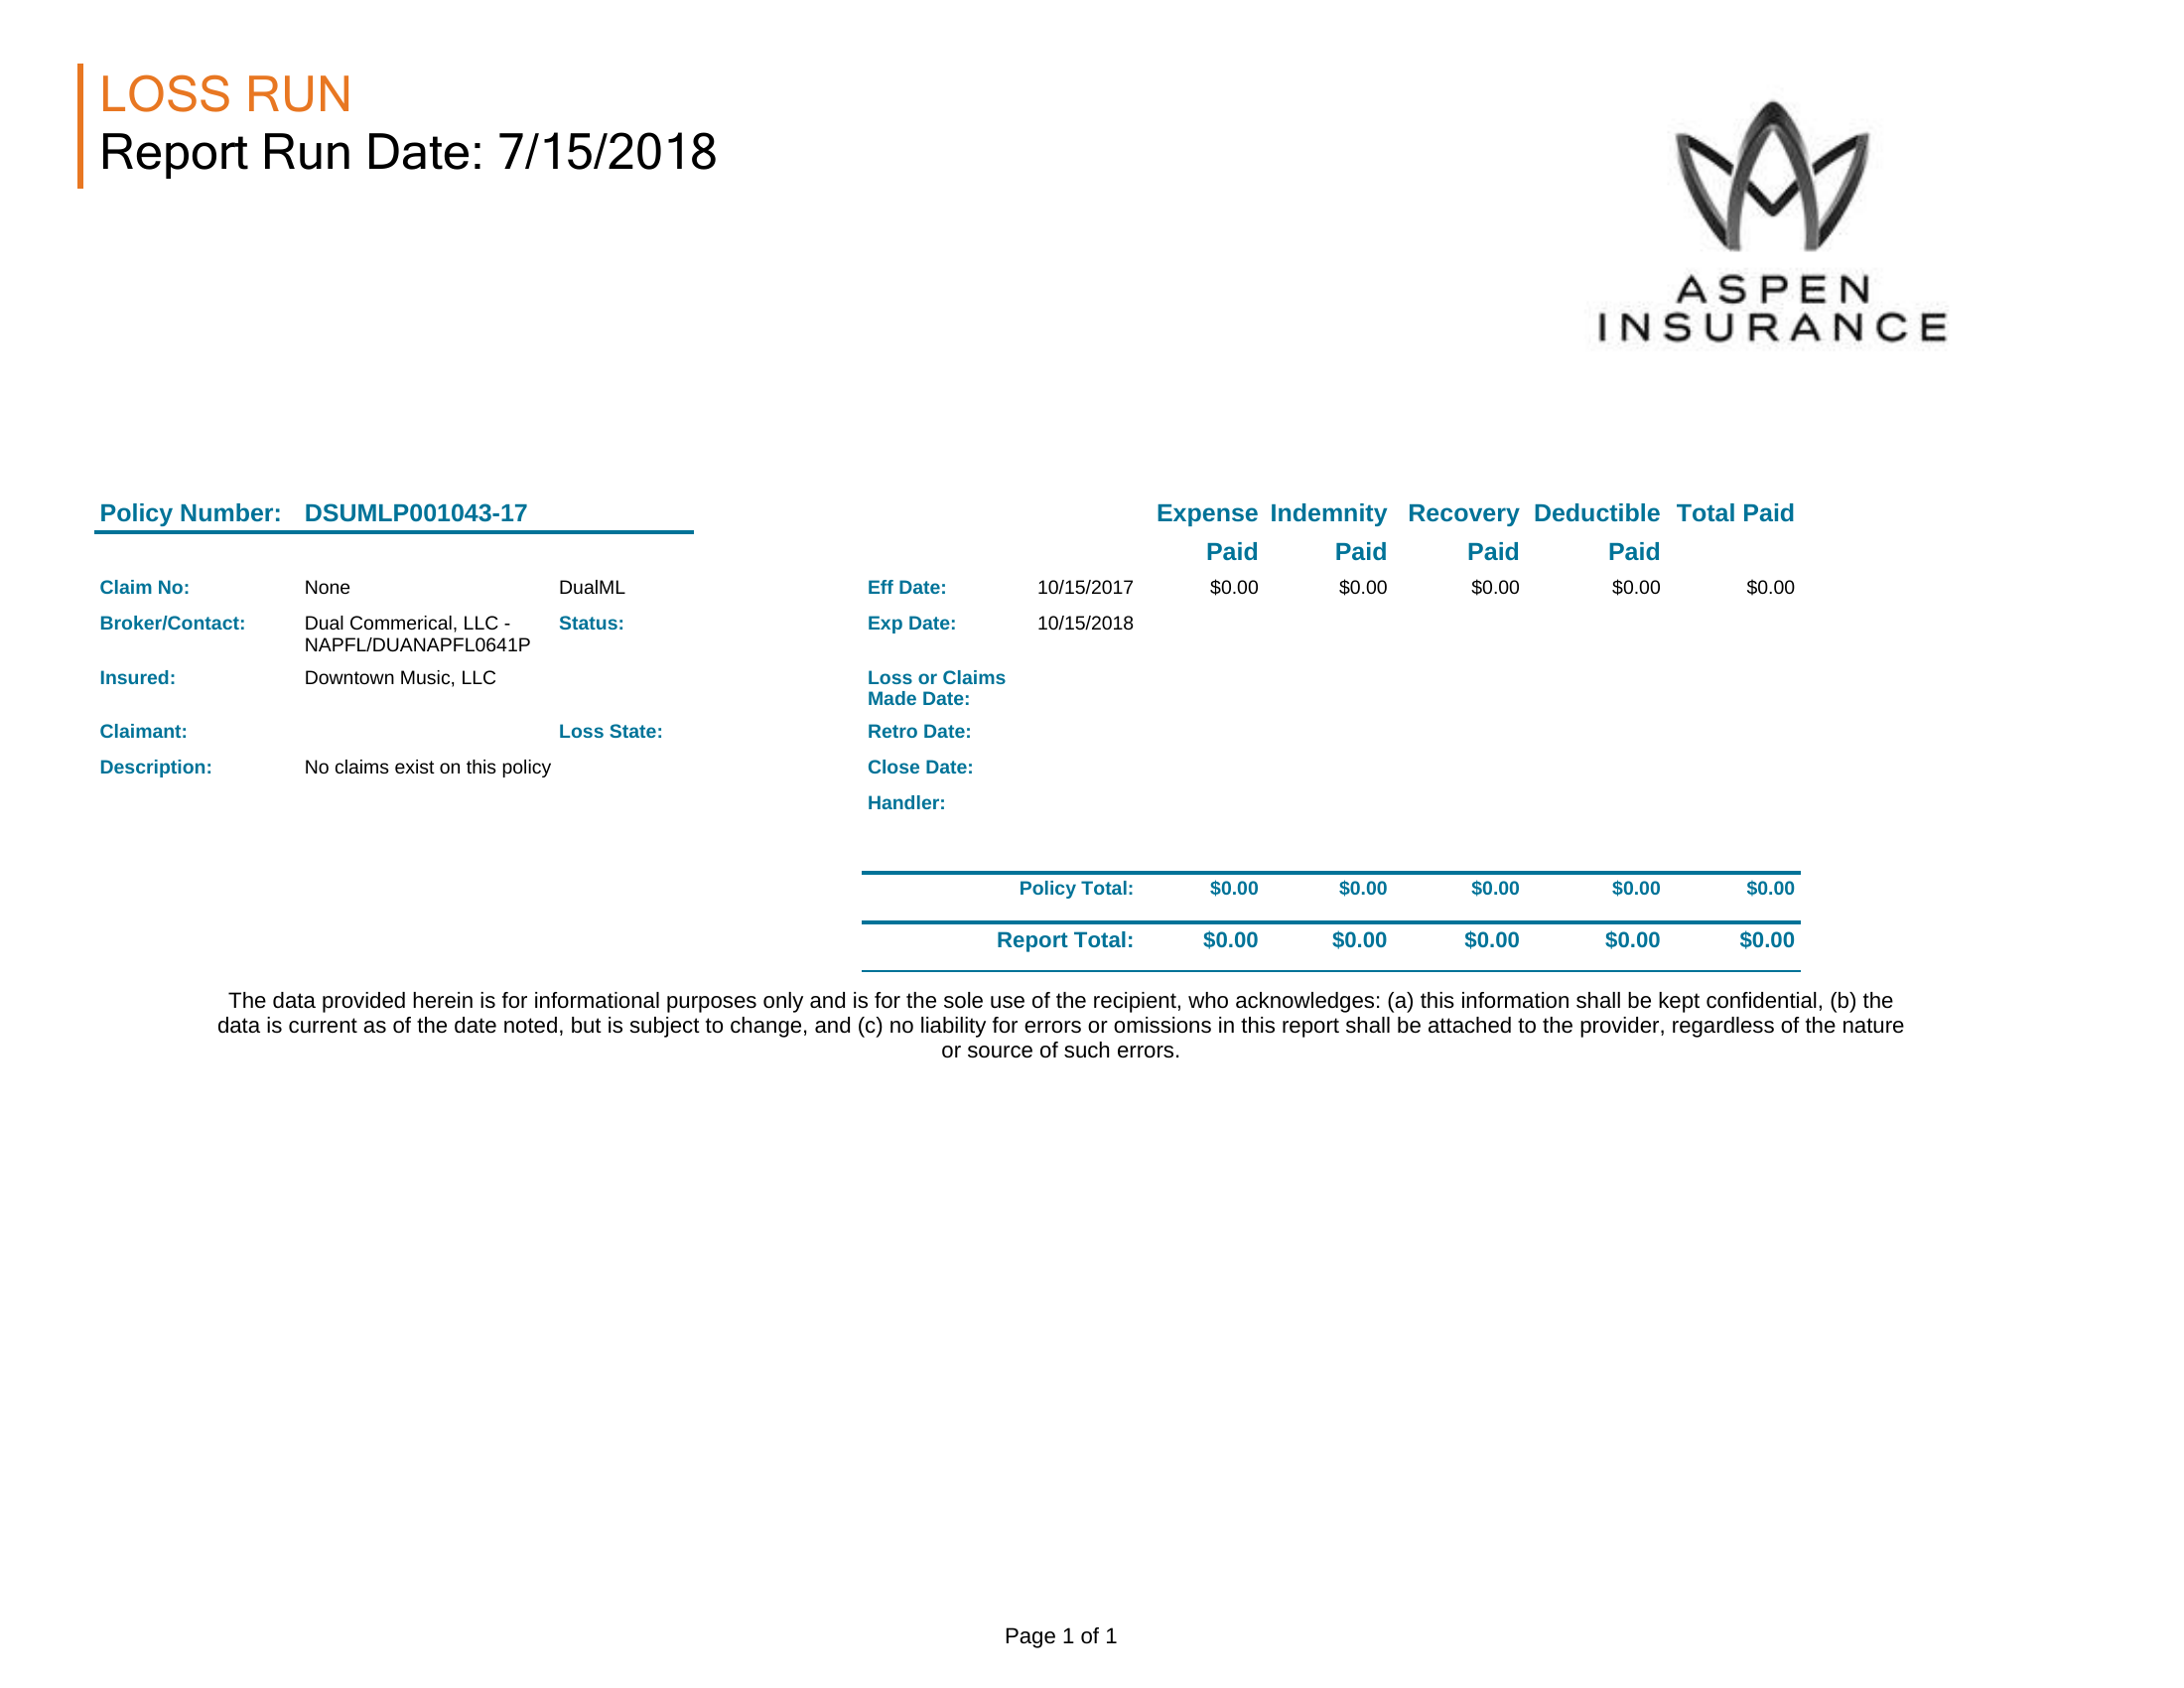No-loss: (55, 472, 1904, 982)
